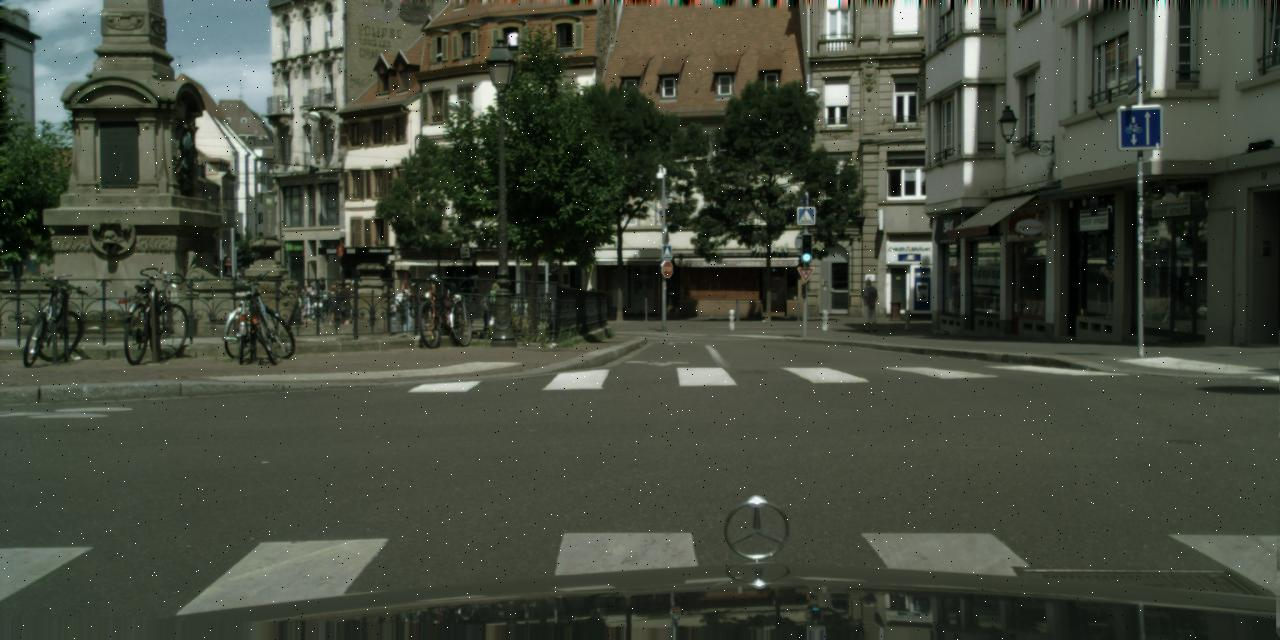ped: (859, 279, 880, 332), (321, 276, 325, 277)
